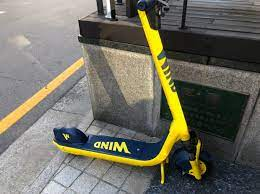kick_body: (87, 136, 158, 164)
kick_neck: (143, 16, 191, 130)
kick_wheel: (173, 150, 211, 180), (54, 129, 83, 155)
